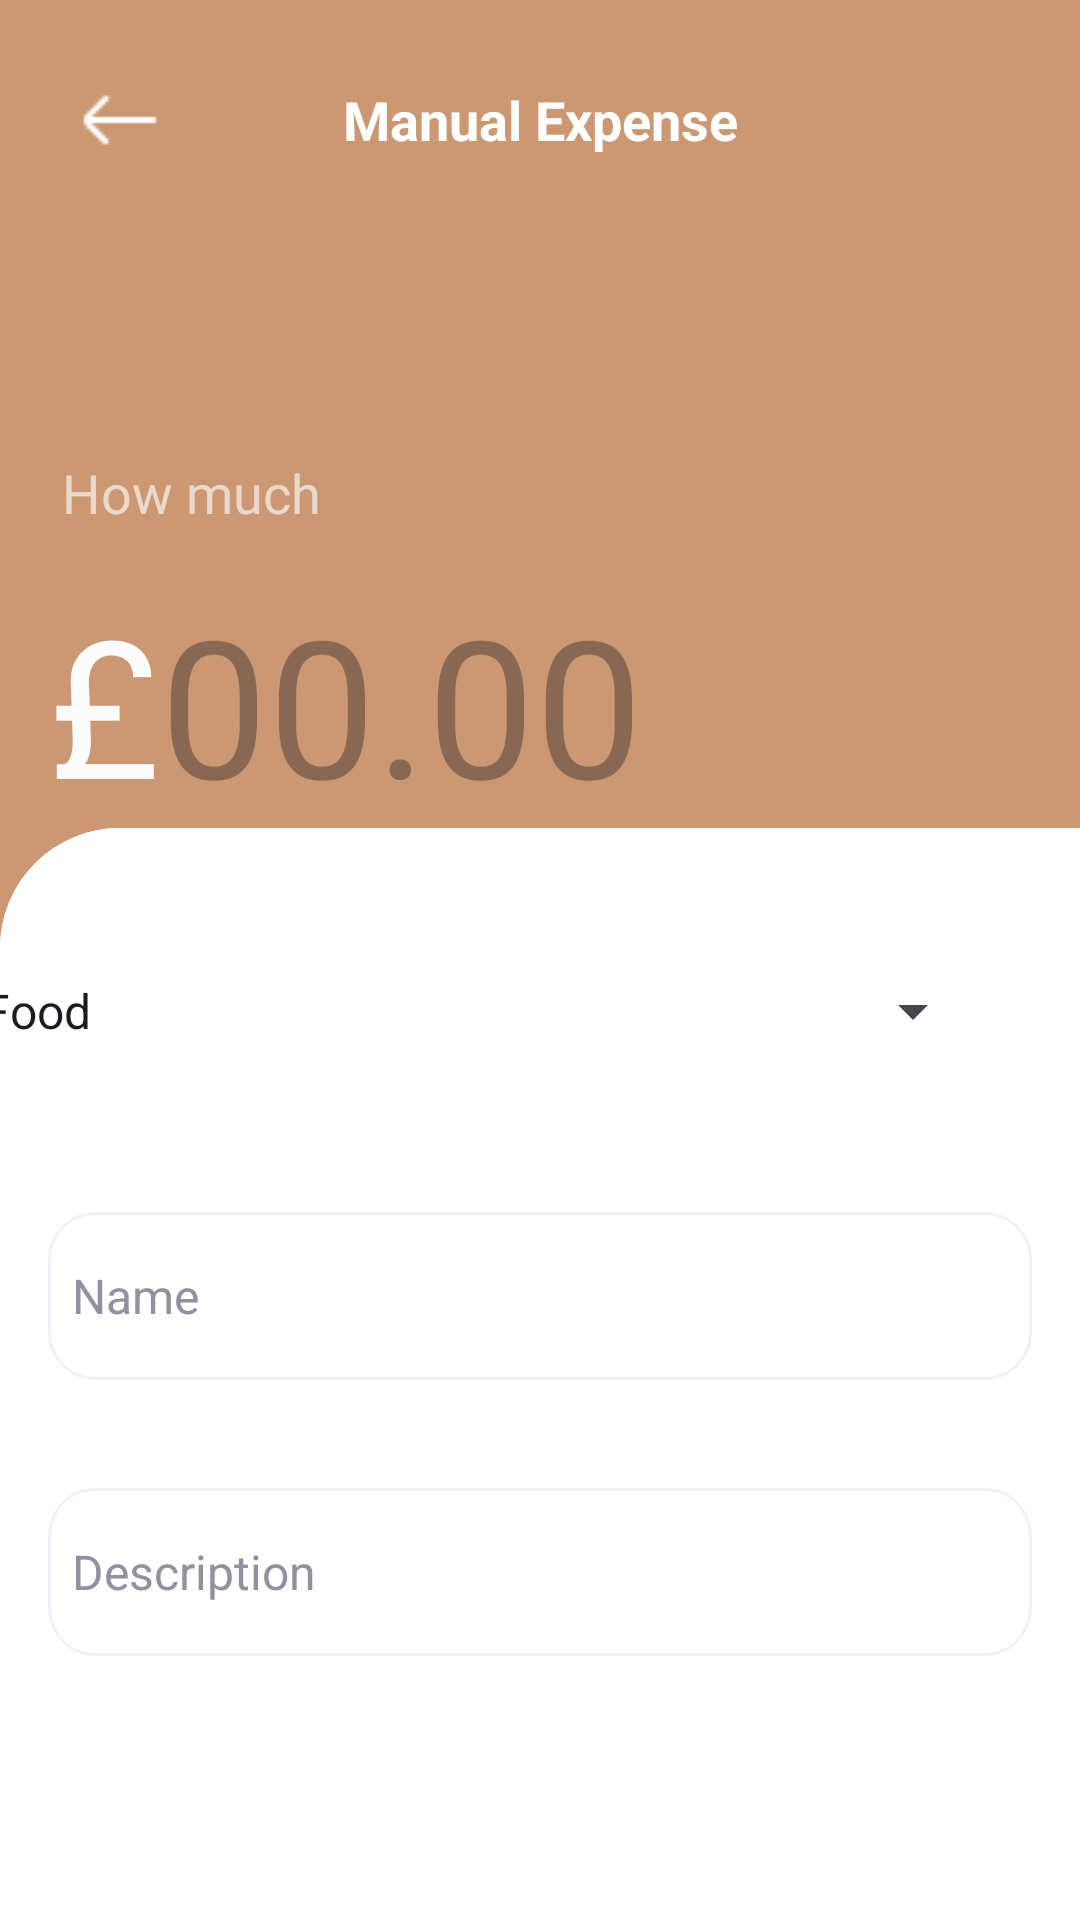

Icon bounding boxes for this 1080*1920 phone screenshot, format bbox=[x1, y1, x2, y2]:
arrow: bbox=[83, 95, 157, 145]
